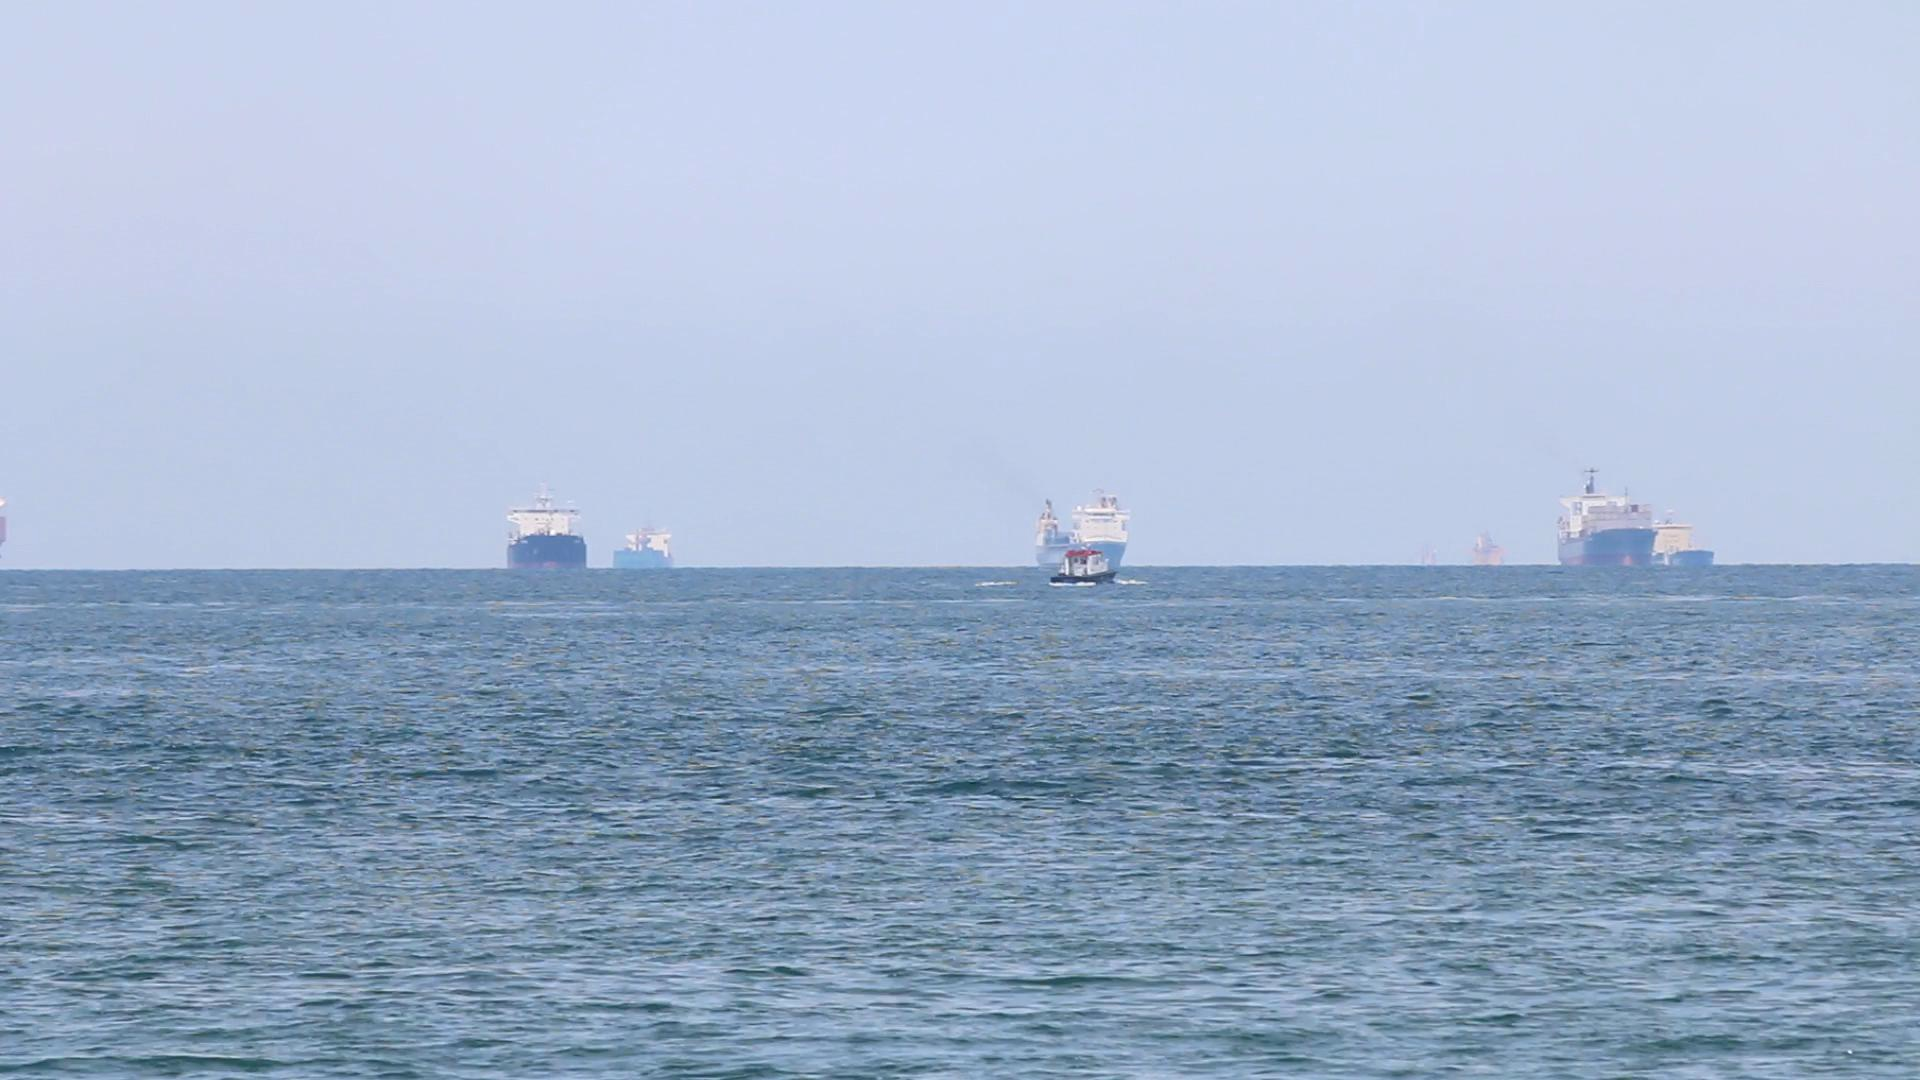Container Ship: (1553, 460, 1651, 572), (500, 479, 597, 580), (1029, 484, 1131, 580), (1038, 521, 1130, 595), (618, 518, 691, 583), (1652, 509, 1717, 574), (1473, 525, 1524, 572)
